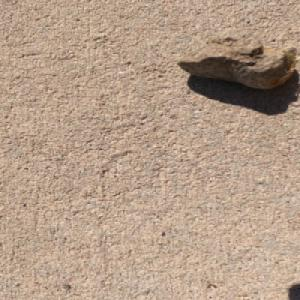Rock: (175, 26, 298, 89)
